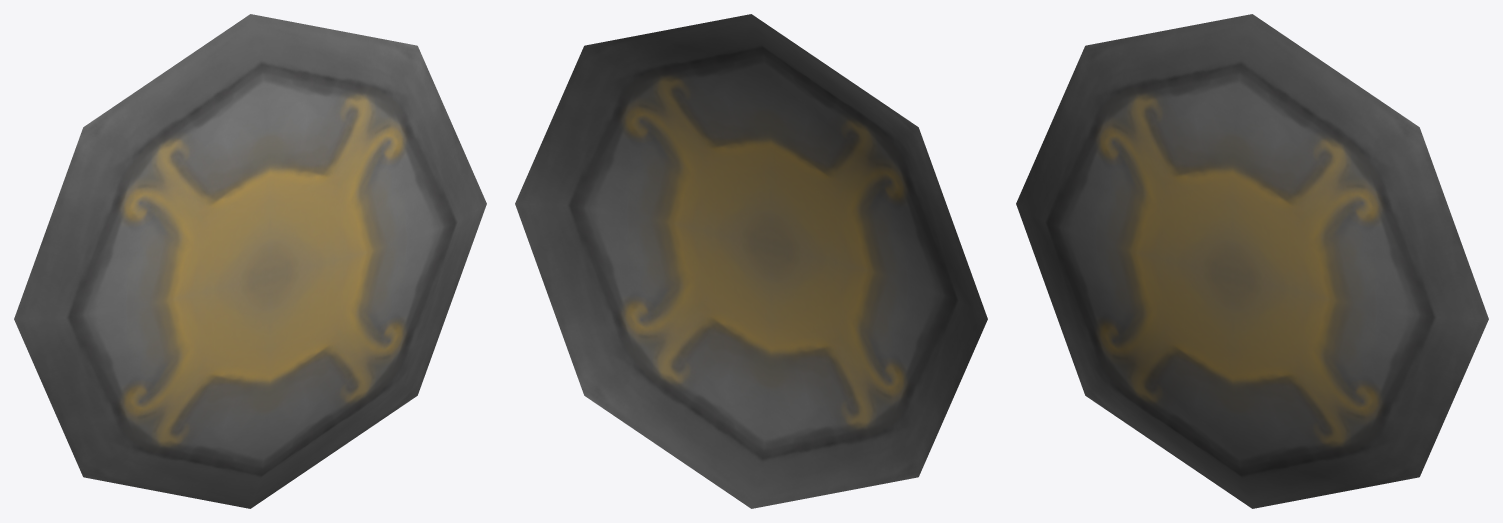
The model's file is Props_Shield.fbx.
3 renders of one model, left to right at view 1: azimuth 30°, elevation 25°; view 2: azimuth 150°, elevation 25°; view 3: azimuth 330°, elevation 25°, orthographic.
Visible parts, largest first — view 1: Prop_Shield_001; view 2: Prop_Shield_001; view 3: Prop_Shield_001.
Boxes of the visible parts, x1=… form: Prop_Shield_001: x1=14, y1=14, x2=486, y2=508; Prop_Shield_001: x1=515, y1=14, x2=987, y2=508; Prop_Shield_001: x1=1016, y1=14, x2=1488, y2=508.
Size of the model in its own units: 6.55 by 6.55 by 0.4742.
